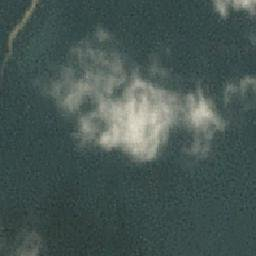cloud: (41, 38, 216, 170)
debris: (2, 27, 18, 63), (21, 3, 36, 29)
